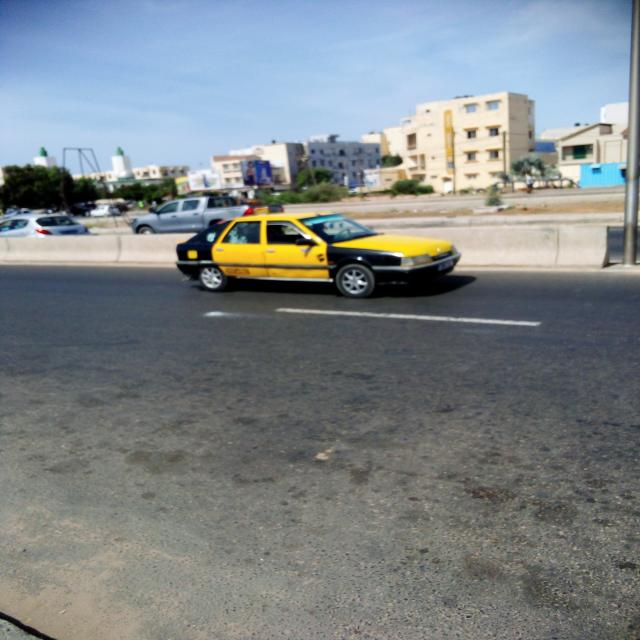particulier: (131, 197, 254, 236), (1, 209, 93, 243)
taxi: (178, 214, 461, 299)
